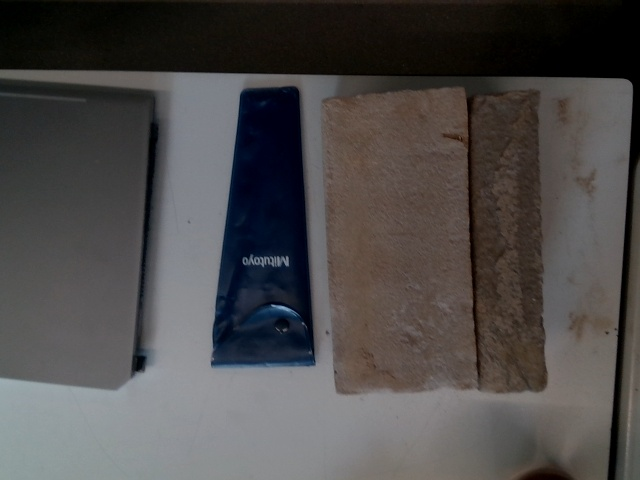brick: (322, 95, 472, 388)
